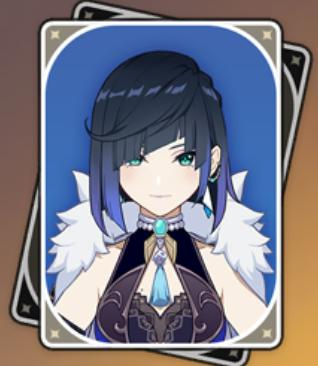夜兰: (52, 48, 271, 347)
